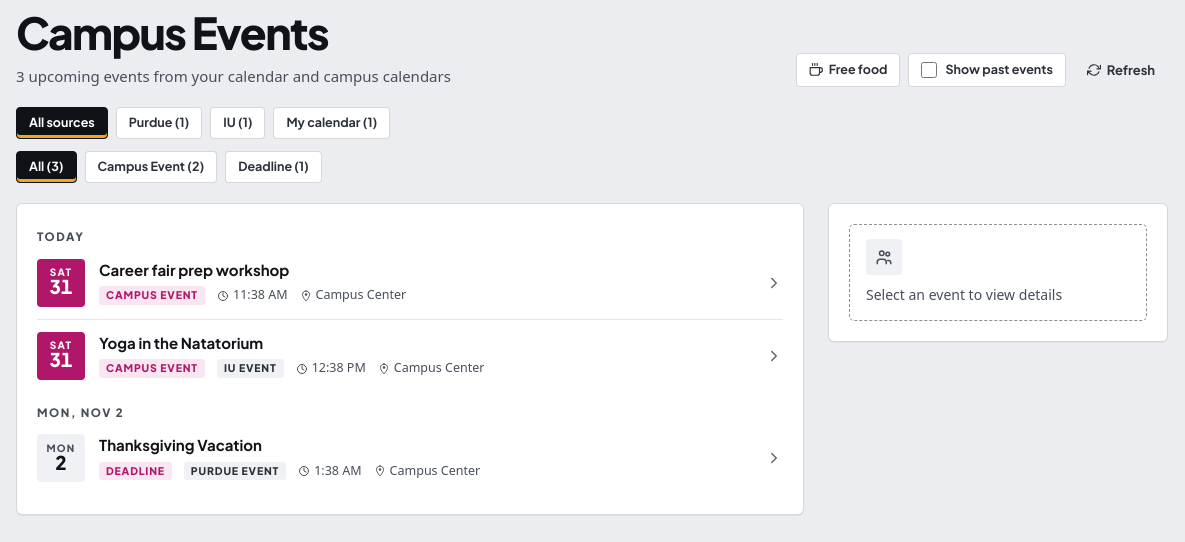
Scenario: shared campus events › asks for them, labels each with its source and links out to the listing from the details
Expected: the text "3 upcoming events from your calendar and campus calendars" is shown, [16, 65, 451, 87]
Expected: the text "Purdue event" is shown, [184, 462, 286, 480]
Click the button "Yoga in the Natatorium" at x=61, y=356, box [25, 320, 795, 392]
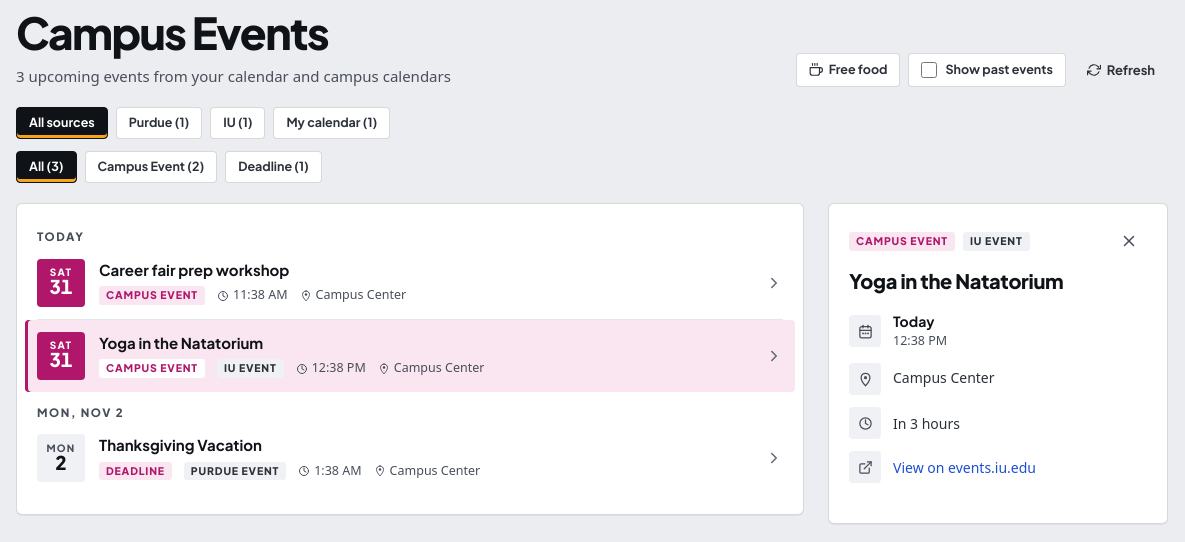
Expected: the 1st text "IU event" is shown, [963, 232, 1030, 251]
# The student's own events have no source and no link.
Click the button "Career fair prep workshop" at x=61, y=283, box [25, 247, 795, 319]
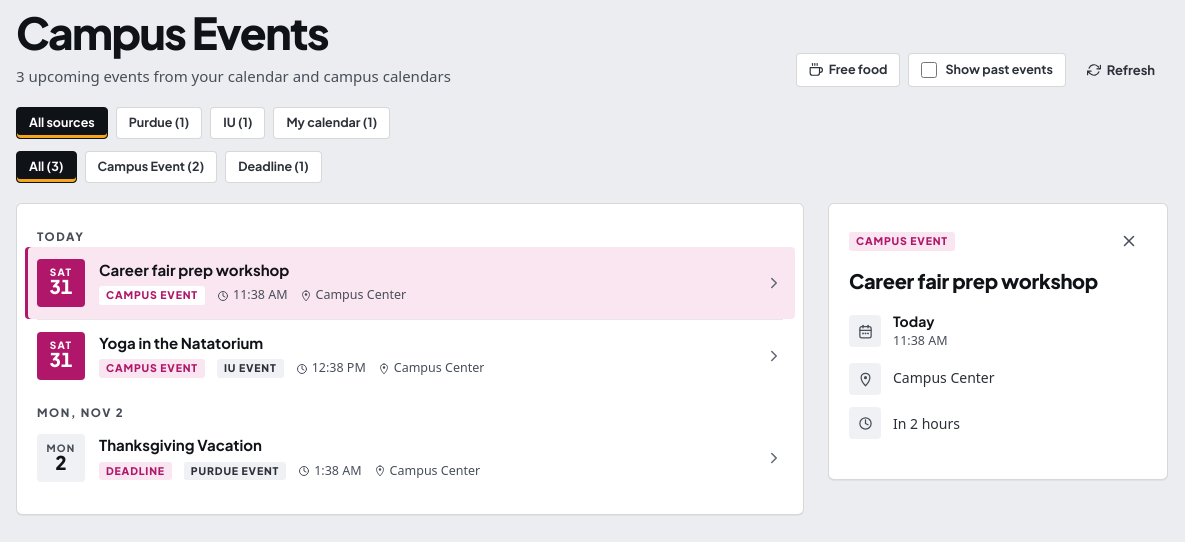
Expected: the link "View on events.iu.edu" is gone
